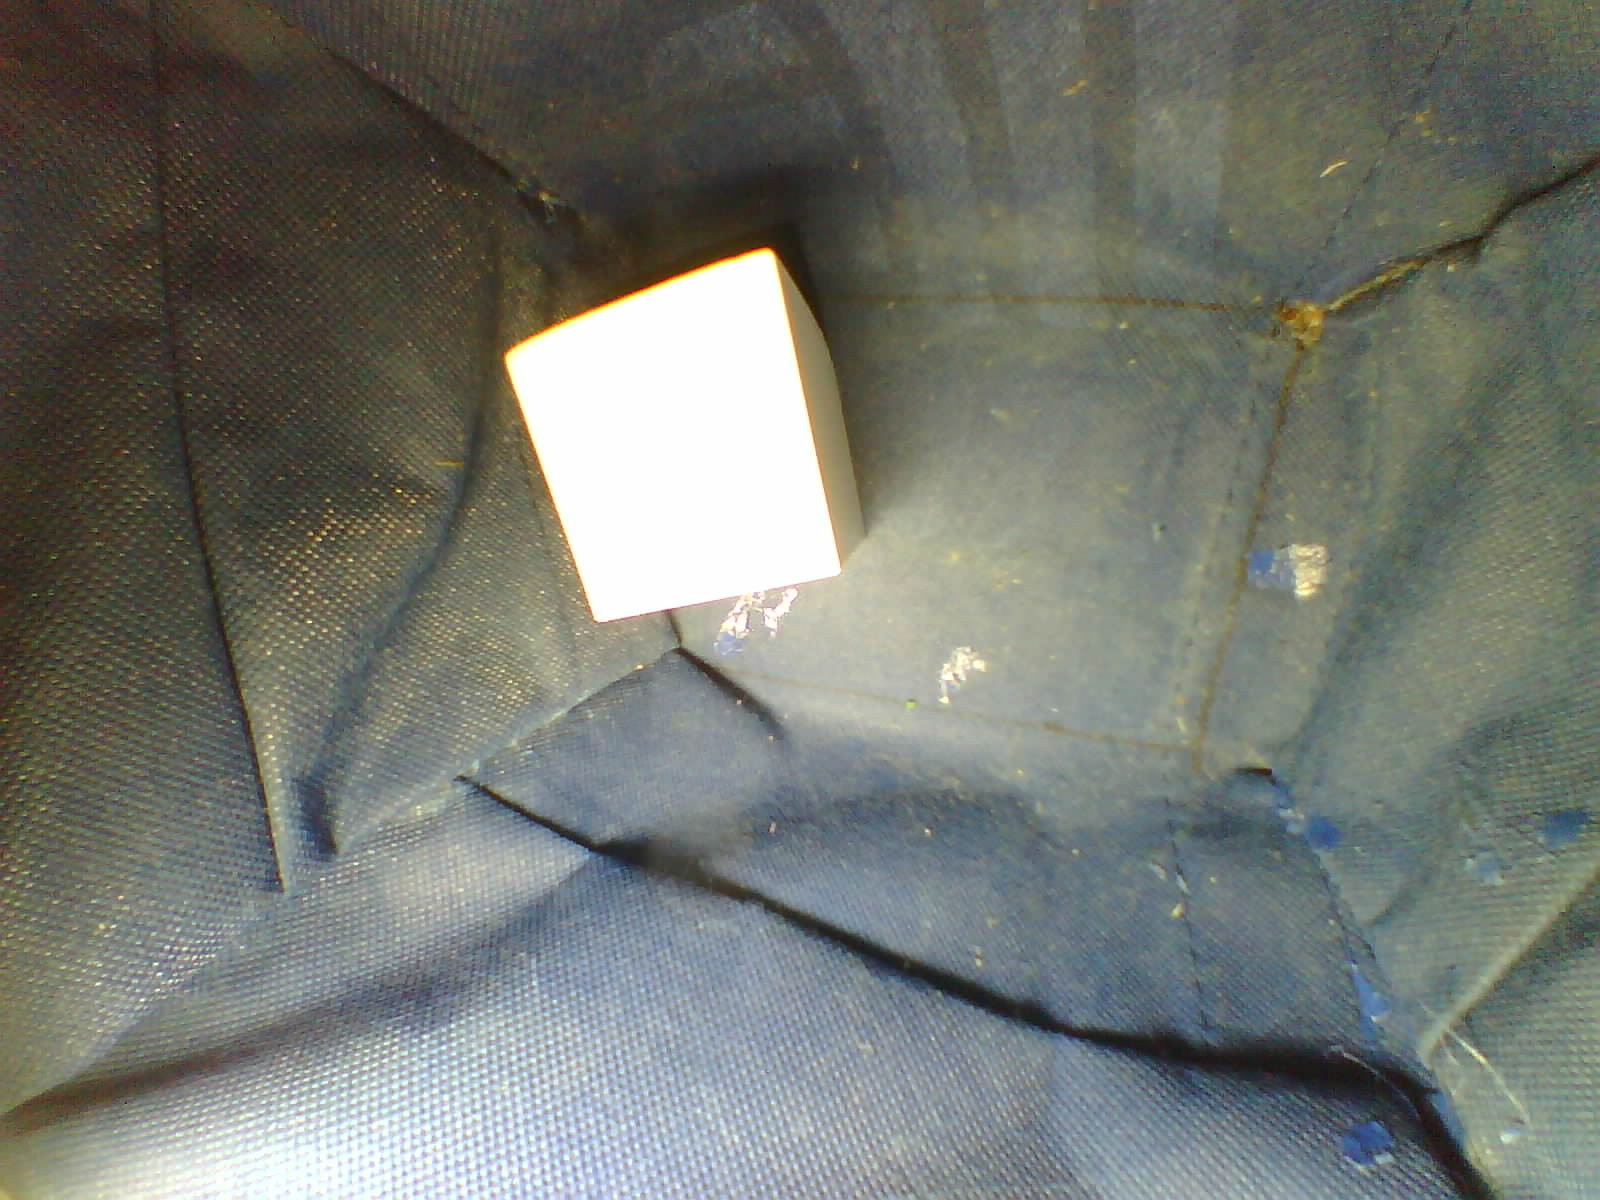cube-hard: (480, 232, 884, 635)
